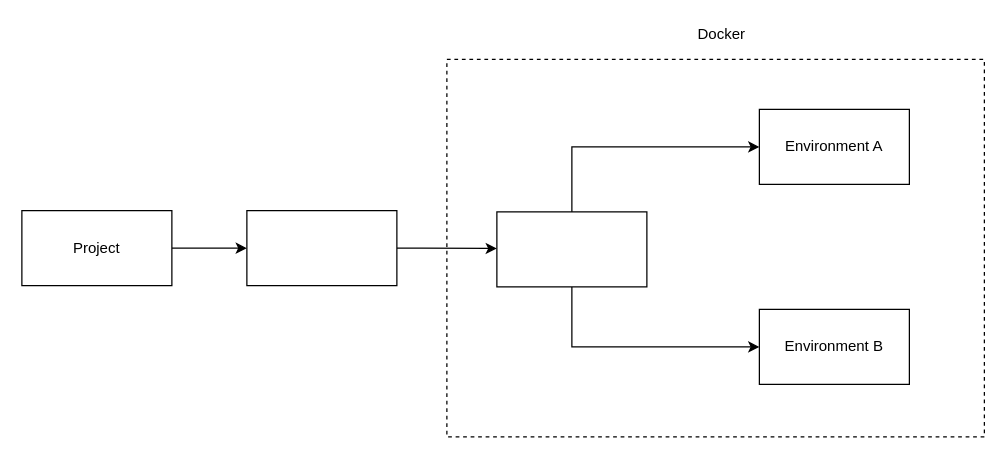
This 1006x459 diagram has some shape labels left out. The shapes that lost their labels are listed below. From the top down, each one's centre as x and y in pixels, then its label:
(x=321, y=247): Gradle plugin JUnit extension
(x=571, y=249): Habit server
